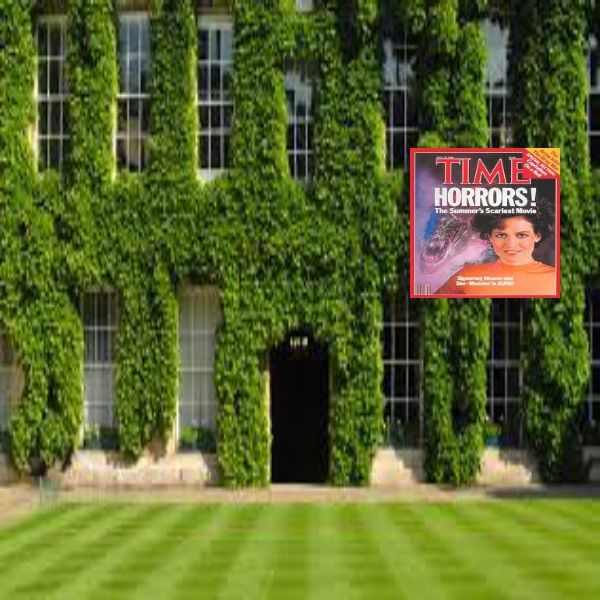time_cover: (398, 138, 567, 297)
